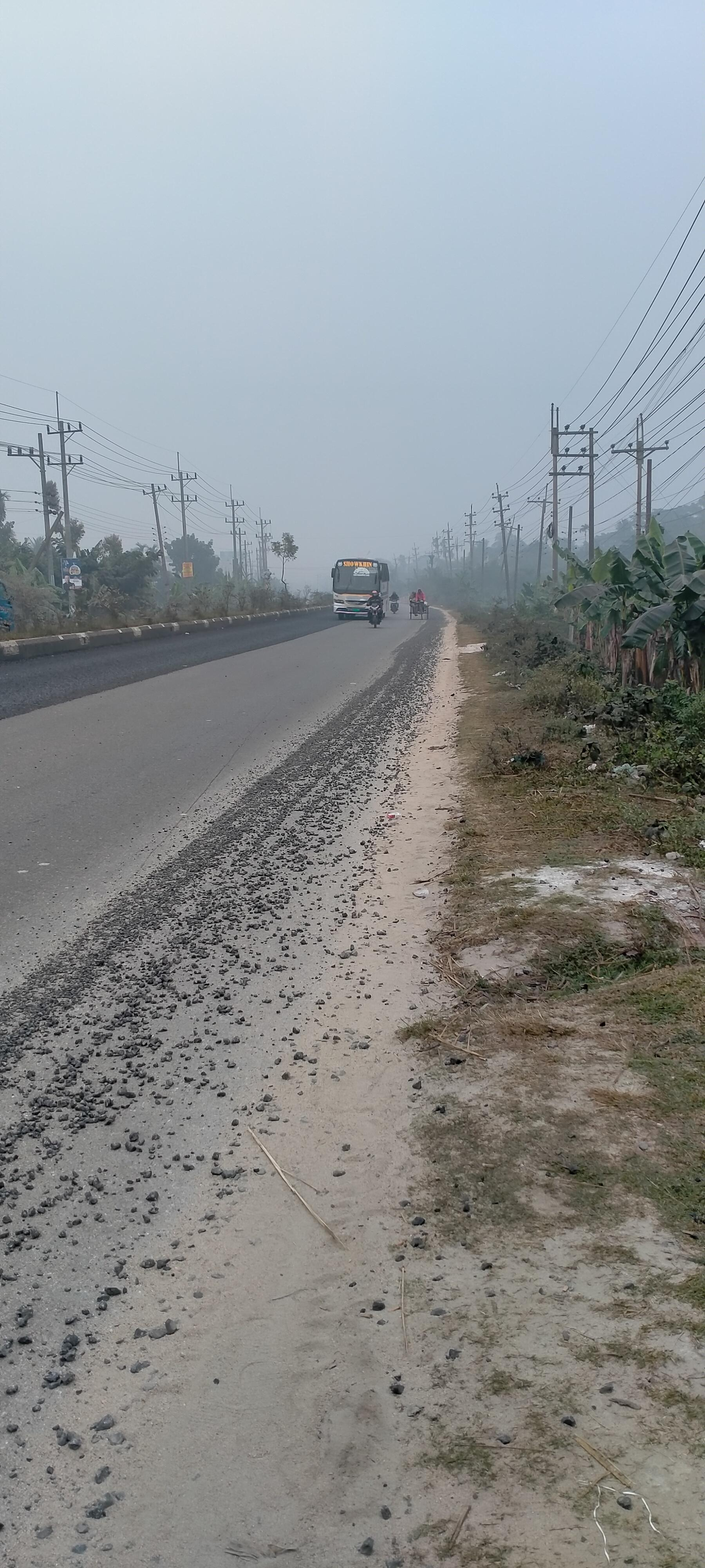Bike: (357, 584, 392, 633)
Bus: (321, 550, 390, 630)
Car: (405, 580, 431, 633)
